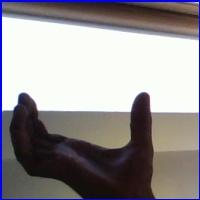space: (4, 69, 172, 193)
